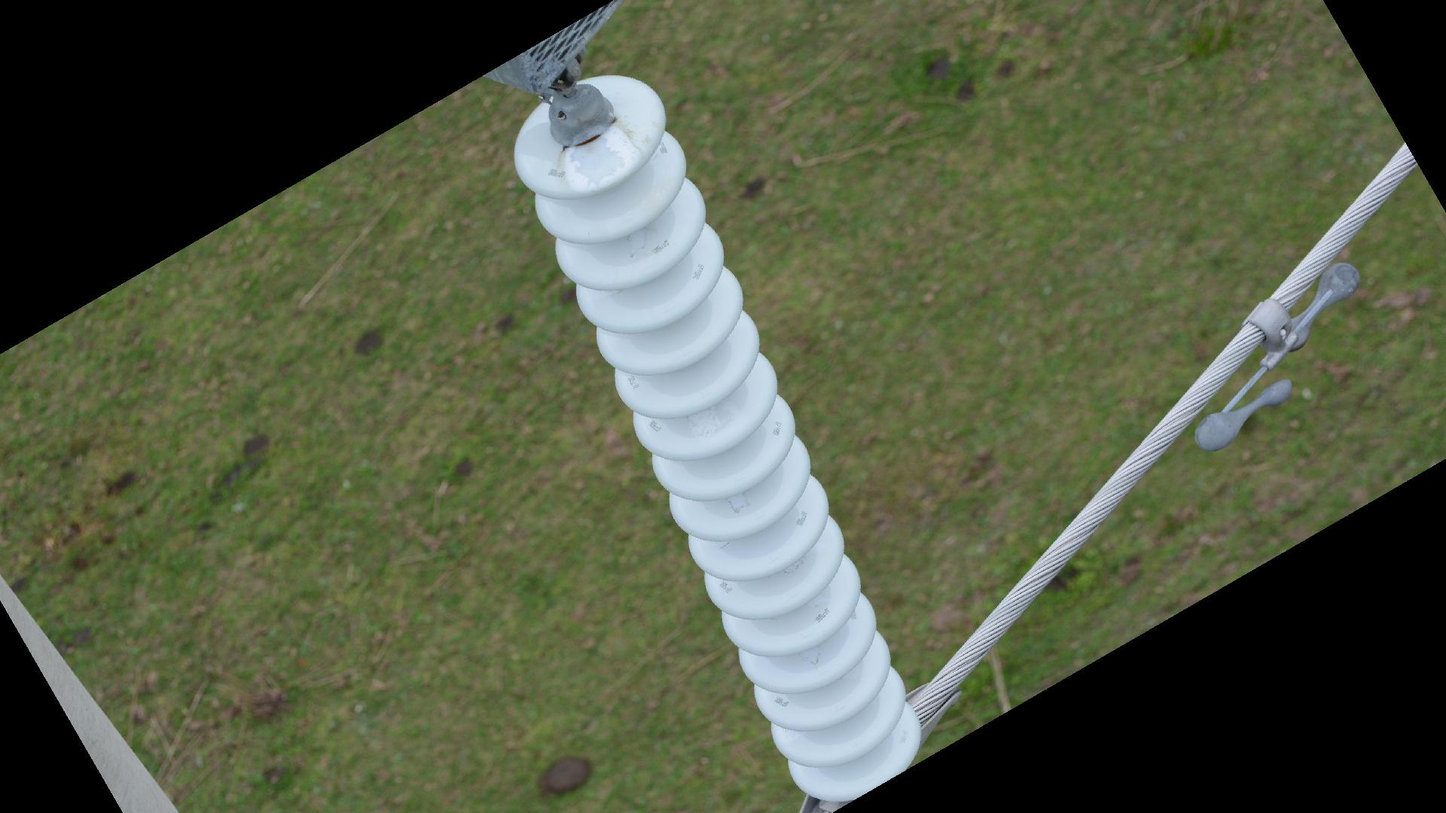insulator: (505, 65, 926, 813)
insulator_flashover: (560, 124, 639, 197)
